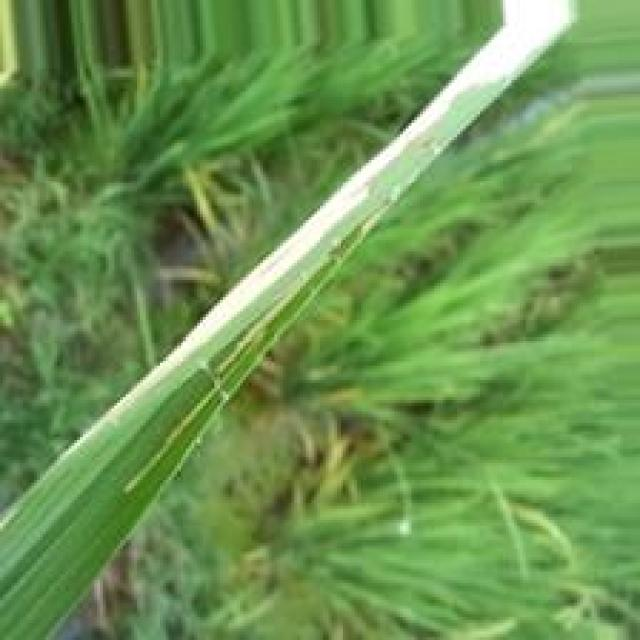Rice_Hispa: (37, 0, 584, 485)
